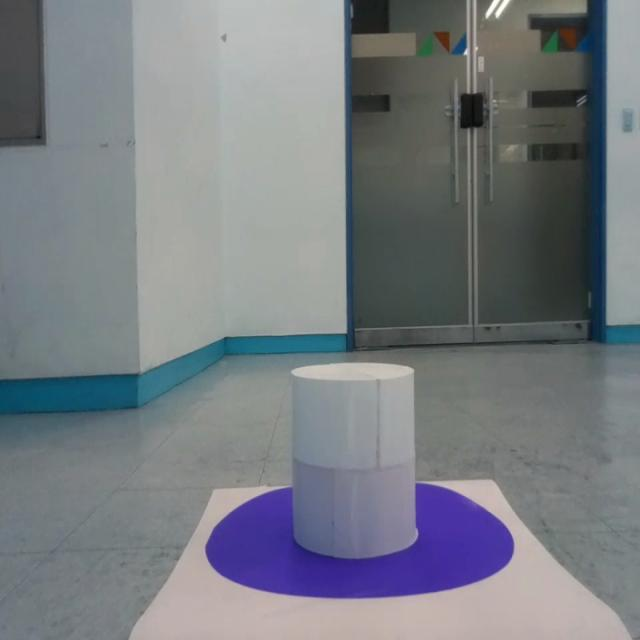cylinder: (290, 362, 416, 559)
